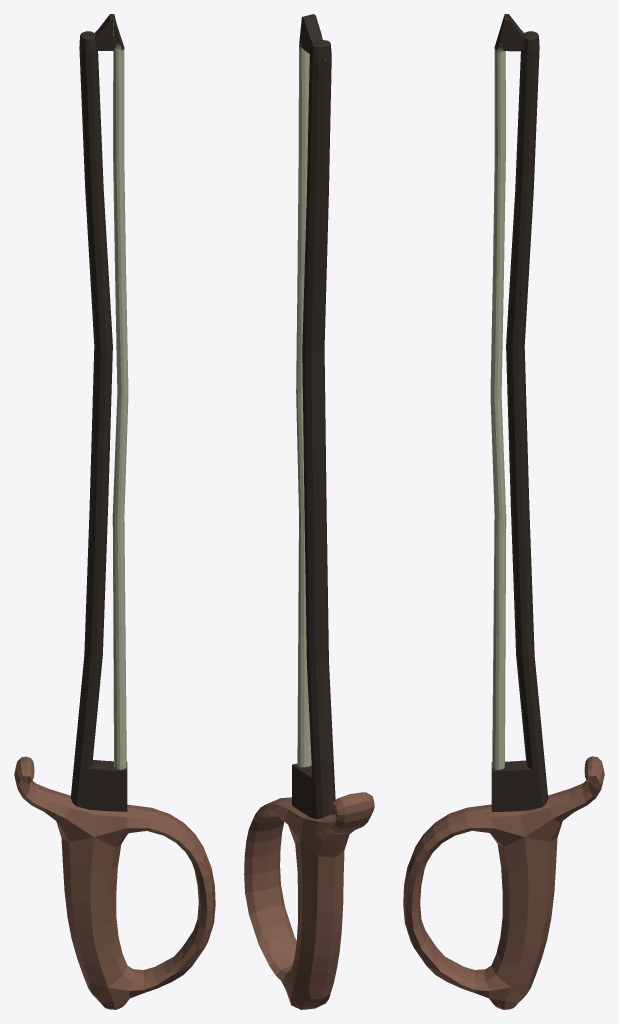
File: ArchSword 1.fbx
The picture shows the model from 3 angles, left to right: view 1: azimuth 90°, elevation 25°; view 2: azimuth 210°, elevation 25°; view 3: azimuth 270°, elevation 25°; orthographic projection.
Parts seen in each view (by area): view 1: arch; view 2: arch; view 3: arch.
Boxes of the visible parts, <box> form: arch: <box>14,14,215,1009</box>; arch: <box>244,14,374,1009</box>; arch: <box>403,14,604,1009</box>.
Bounding box in the file's own units: 1039 × 26469 × 4889.
Materials: 2 (2 with a texture image).
